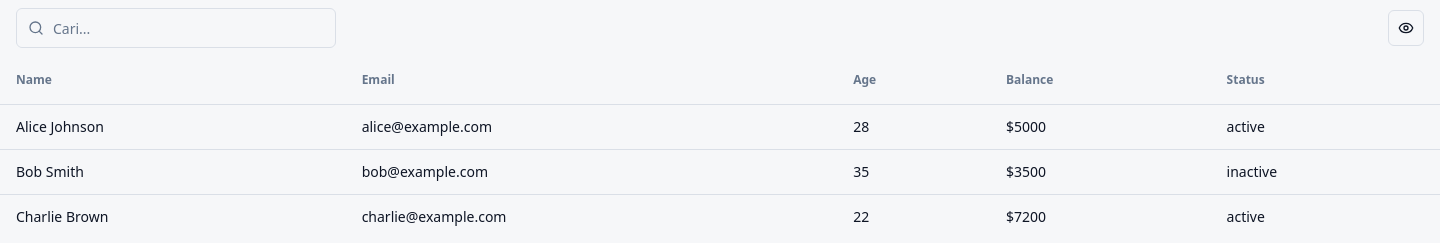
Test: DataTable Component › Filtering/Search › should filter data based on search term
Type "Alice" into the field with placeholder "Cari..." at (176, 28), box [16,8,336,48]
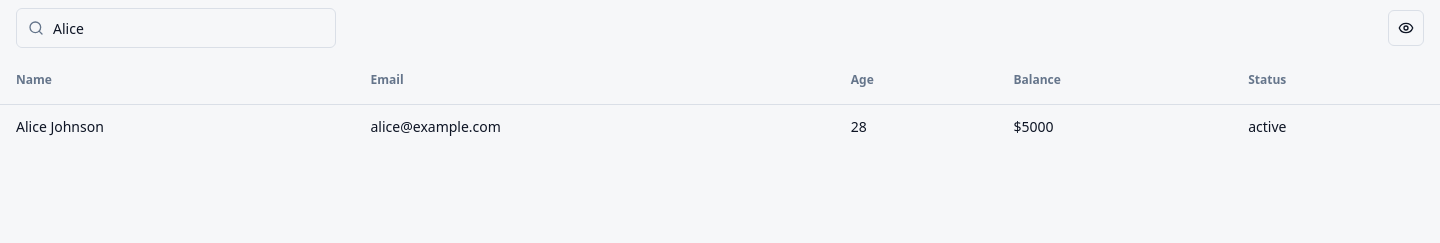
Expected: the text "Alice Johnson" is shown, [0,104,354,148]
Expected: the text "Bob Smith" is gone
